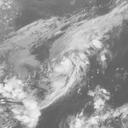cyclone: (27, 27, 83, 94)
